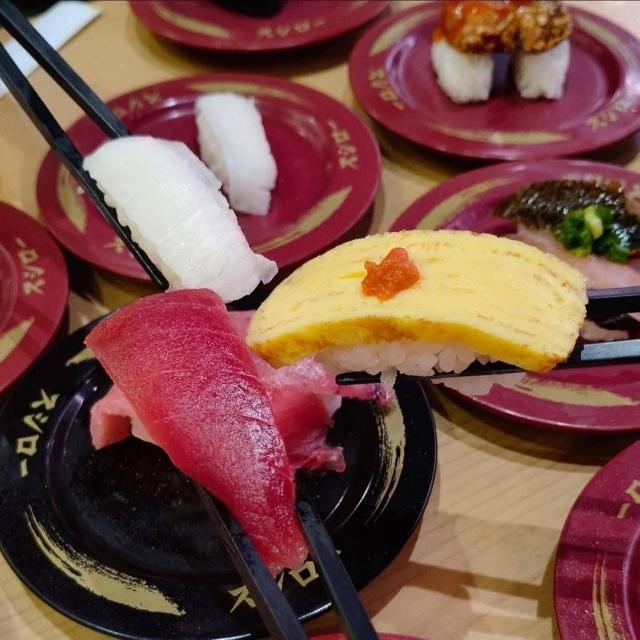janback: (0, 402, 130, 632), (129, 486, 219, 640), (364, 414, 456, 554)
